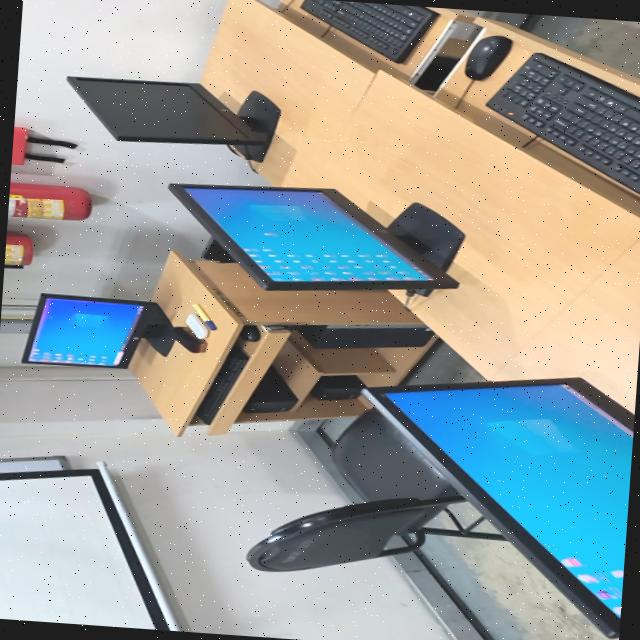Chair: (246, 409, 502, 571)
Cpu: (287, 324, 432, 348)
Fire Extinguisher: (6, 182, 90, 220), (3, 233, 31, 267)
Keyboard: (483, 53, 640, 196), (300, 0, 437, 62), (194, 345, 247, 424)
Monitor: (362, 378, 634, 637), (167, 184, 462, 296), (67, 76, 278, 161), (21, 293, 202, 368)
Mouse: (464, 35, 510, 80), (239, 325, 258, 342)
